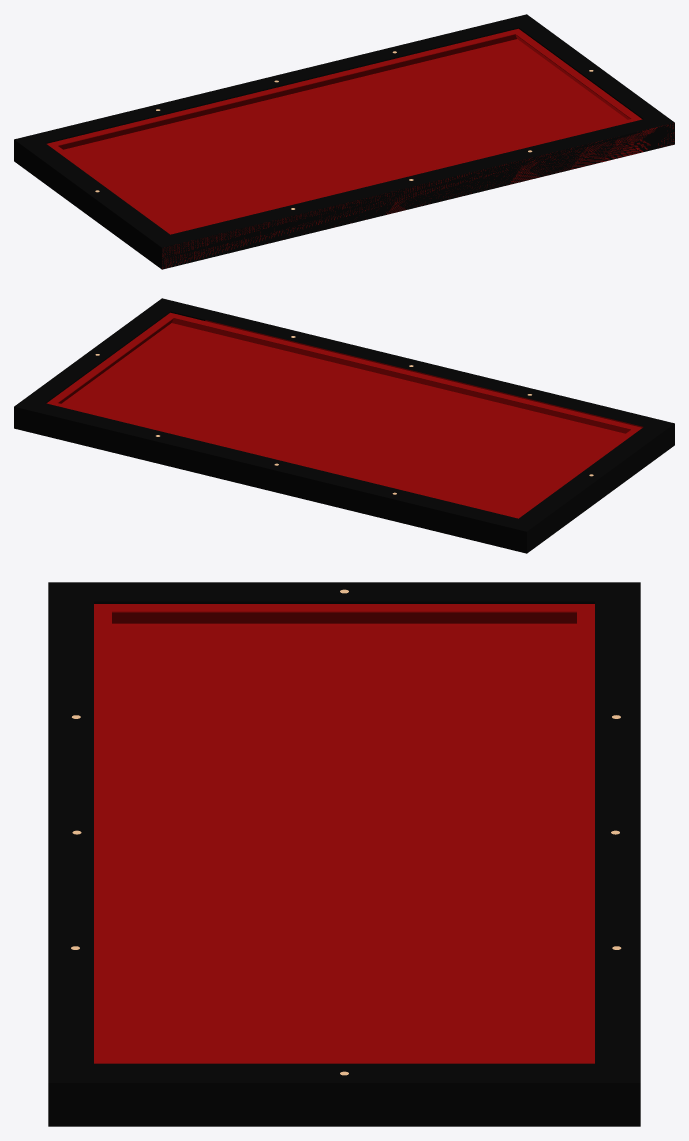
Rendered from table.dae.
The picture shows the model from 3 angles, top to bottom: view 1: azimuth 30°, elevation 25°; view 2: azimuth 150°, elevation 25°; view 3: azimuth 270°, elevation 25°; orthographic projection. The views are drawn at different scales.
Visible parts, largest first — view 1: billard (×6); view 2: billard (×4); view 3: billard (×6).
Boxes of the visible parts, x1,y1,x2,y2 form: billard (×6): (14,14,674,269); billard (×4): (14,298,674,553); billard (×6): (48,582,640,1126).
Size of the model in its own units: 102 by 51.18 by 4.17.
